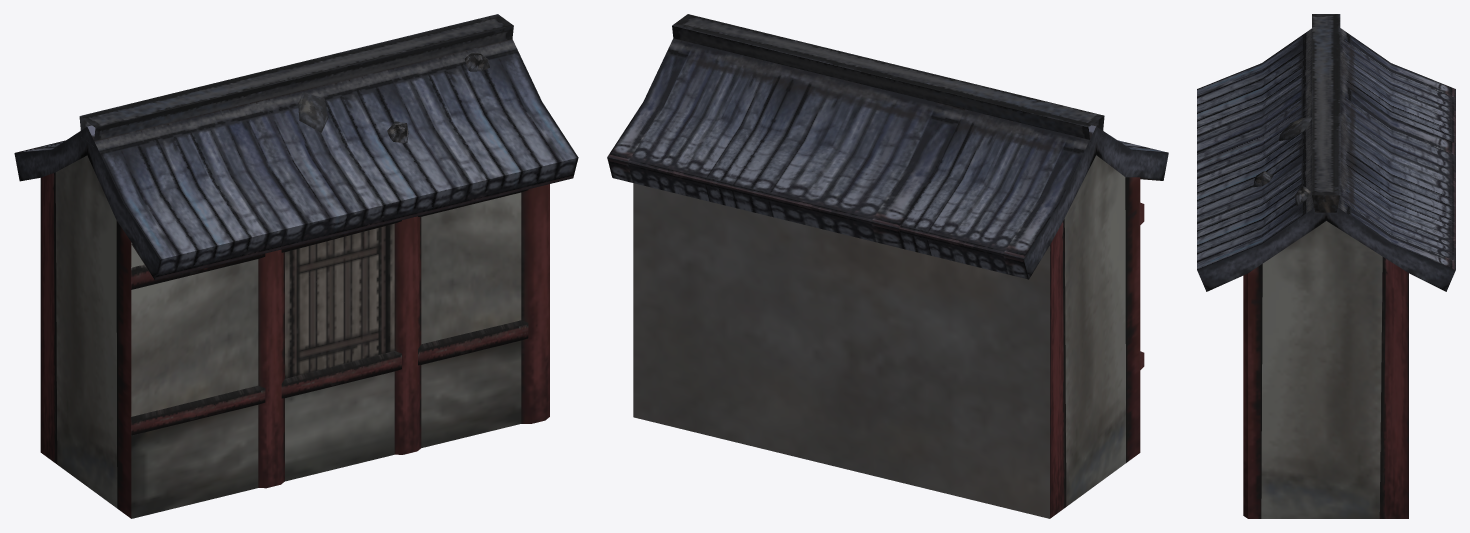
The model's file is STR_WallTempleExt.FBX.
The picture shows the model from 3 angles, left to right: view 1: azimuth 30°, elevation 25°; view 2: azimuth 150°, elevation 25°; view 3: azimuth 270°, elevation 25°; orthographic projection. The views are drawn at different scales.
Visible parts, largest first — view 1: STR_WallTempleExt; view 2: STR_WallTempleExt; view 3: STR_WallTempleExt.
Part boxes in pixels (box(x1,y1,x2,y2)): STR_WallTempleExt: box(14, 14, 578, 518); STR_WallTempleExt: box(607, 14, 1168, 518); STR_WallTempleExt: box(1197, 14, 1455, 518).
Size of the model in its own units: 778 by 645 by 467.
